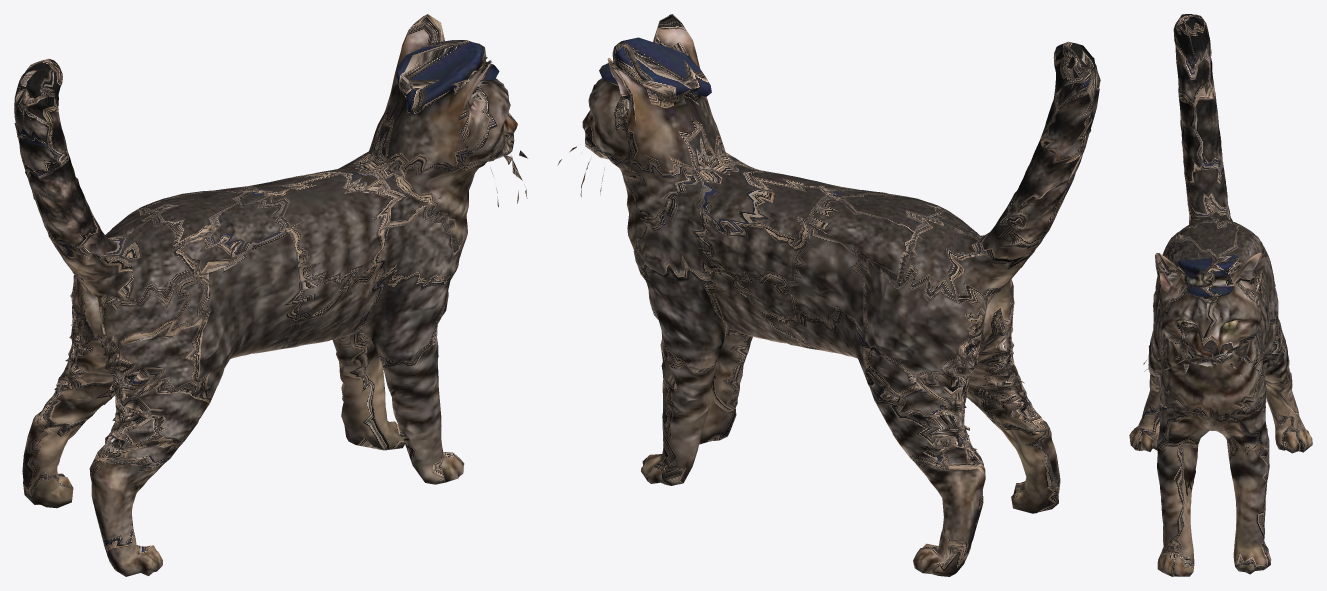
Rendered from NAKANOSAN-lo.glb.
3 renders of one model, left to right at view 1: azimuth 30°, elevation 25°; view 2: azimuth 150°, elevation 25°; view 3: azimuth 270°, elevation 25°, orthographic. The views are drawn at different scales.
Parts seen in each view (by area): view 1: tripo_node_1859e901-fdd5-49d3-bc30-b612946fa54b; view 2: tripo_node_1859e901-fdd5-49d3-bc30-b612946fa54b; view 3: tripo_node_1859e901-fdd5-49d3-bc30-b612946fa54b.
Part boxes in pixels (x1=…): tripo_node_1859e901-fdd5-49d3-bc30-b612946fa54b: x1=14, y1=14, x2=528, y2=576; tripo_node_1859e901-fdd5-49d3-bc30-b612946fa54b: x1=557, y1=14, x2=1100, y2=576; tripo_node_1859e901-fdd5-49d3-bc30-b612946fa54b: x1=1129, y1=14, x2=1312, y2=576.
Bounding box in the file's own units: 1.06 × 0.9966 × 0.4068.
Materials: 1 (1 with a texture image).
